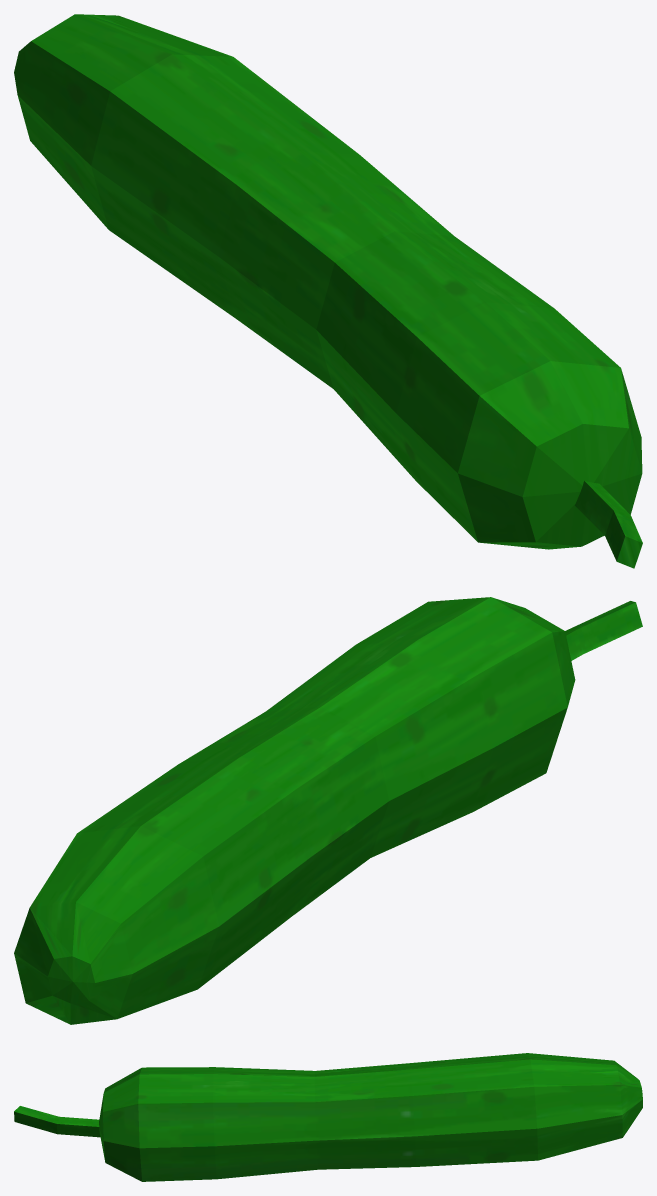
File: tx_shucai_keep3.obj
The picture shows the model from 3 angles, top to bottom: view 1: azimuth 30°, elevation 25°; view 2: azimuth 150°, elevation 25°; view 3: azimuth 270°, elevation 25°; orthographic projection. The views are drawn at different scales.
Parts seen in each view (by area): view 1: Box01; view 2: Box01; view 3: Box01.
Boxes of the visible parts, <box> form: Box01: <box>14,14,642,568</box>; Box01: <box>14,597,642,1024</box>; Box01: <box>14,1053,642,1181</box>.
Size of the model in its own units: 0.0123 by 0.0142 by 0.0704.
Materials: 1 (1 with a texture image).
